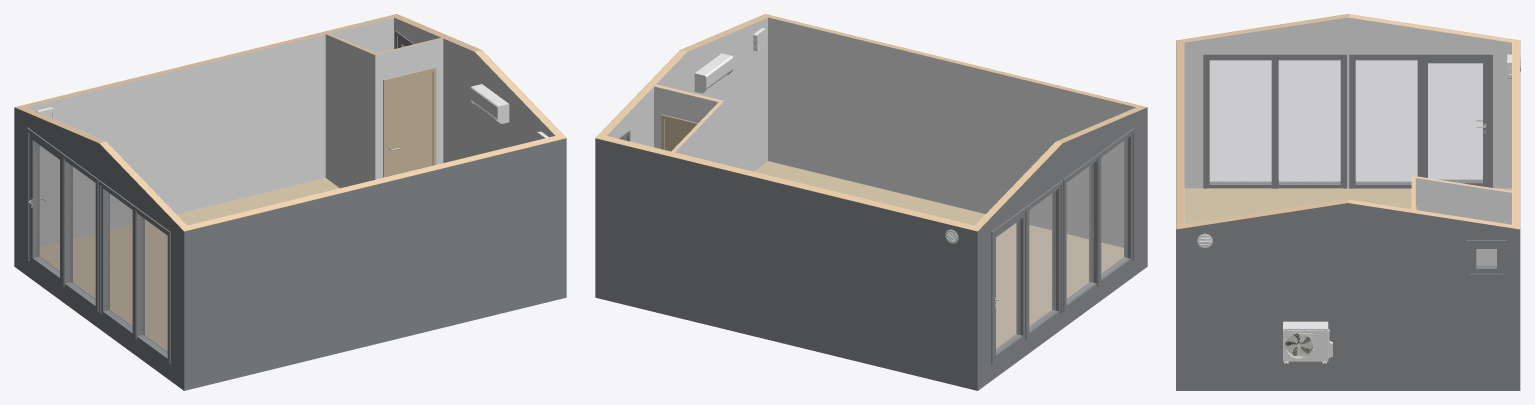
Rendered from medziosandelis.eu_(5,0 x 6,5)_R00.fbx.
The picture shows the model from 3 angles, left to right: view 1: azimuth 30°, elevation 25°; view 2: azimuth 150°, elevation 25°; view 3: azimuth 270°, elevation 25°; orthographic projection.
Parts seen in each view (by area): view 1: IfcWall/Part:2663454, IfcWall/Part:2663462, IfcWall/Part:2663460, IfcSlab/Part:2663543, IfcWall/Part:2663456, IfcWall/Part:2679602, IfcDoor/Durys vidinės:800x2100 x 120 (dešininės):2663563, IfcWindow/Langai (Akrusta):1000x2100x120:2727360, IfcDoor/Durys išorinės:1000x2100x120 (dešininės):2732387, IfcWindow/Langai (Akrusta):1000x2100x120:2732932, IfcWindow/Langai (Akrusta):1000x2100x120:2732892, IfcWall/Part:2663506 (+5 smaller); view 2: IfcWall/Part:2663463, IfcWall/Part:2663453, IfcWall/Part:2663460, IfcSlab/Part:2663543, IfcWall/Part:2663456, IfcWindow/Langai (Akrusta):1000x2100x120:2732892, IfcWindow/Langai (Akrusta):1000x2100x120:2732932, IfcWindow/Langai (Akrusta):1000x2100x120:2727360, IfcDoor/Durys išorinės:1000x2100x120 (dešininės):2732387, IfcWall/Part:2663464, IfcWall/Part:2663507, IfcWall/Part:2679602 (+5 smaller); view 3: IfcWall/Part:2663457, IfcWall/Part:2663459, IfcWindow/Langai (Akrusta):1000x2100x120:2727360, IfcWindow/Langai (Akrusta):1000x2100x120:2732892, IfcWindow/Langai (Akrusta):1000x2100x120:2732932, IfcDoor/Durys išorinės:1000x2100x120 (dešininės):2732387, IfcSlab/Part:2663543, IfcWall/Part:2679603, IfcBuildingElementProxy/Toshiba_Air_Handling_Unit_-_Inverter, IfcWindow/Langai (Akrusta):500x500x120 (varstomas):2710636, IfcWall/Part:2663455, IfcWall/Part:2663464 (+4 smaller).
Boxes of the visible parts, bbox=[...] form: IfcWall/Part:2663454: bbox=[184, 138, 566, 390]; IfcWall/Part:2663462: bbox=[25, 17, 393, 247]; IfcWall/Part:2663460: bbox=[14, 107, 183, 390]; IfcSlab/Part:2663543: bbox=[39, 178, 339, 351]; IfcWall/Part:2663456: bbox=[394, 17, 555, 162]; IfcWall/Part:2679602: bbox=[325, 34, 374, 188]; IfcDoor/Durys vidinės:800x2100 x 120 (dešininės):2663563: bbox=[383, 67, 436, 177]; IfcWindow/Langai (Akrusta):1000x2100x120:2727360: bbox=[98, 180, 144, 339]; IfcDoor/Durys išorinės:1000x2100x120 (dešininės):2732387: bbox=[26, 127, 72, 286]; IfcWindow/Langai (Akrusta):1000x2100x120:2732932: bbox=[60, 152, 98, 311]; IfcWindow/Langai (Akrusta):1000x2100x120:2732892: bbox=[132, 205, 170, 364]; IfcWall/Part:2663506: bbox=[375, 38, 443, 179]; IfcWall/Part:2663463: bbox=[595, 138, 977, 390]; IfcWall/Part:2663453: bbox=[768, 17, 1136, 247]; IfcWall/Part:2663460: bbox=[978, 107, 1147, 390]; IfcSlab/Part:2663543: bbox=[754, 161, 1123, 348]; IfcWall/Part:2663456: bbox=[606, 17, 767, 171]; IfcWindow/Langai (Akrusta):1000x2100x120:2732892: bbox=[1089, 127, 1135, 286]; IfcWindow/Langai (Akrusta):1000x2100x120:2732932: bbox=[1025, 180, 1063, 339]; IfcWindow/Langai (Akrusta):1000x2100x120:2727360: bbox=[1063, 152, 1101, 311]; IfcDoor/Durys išorinės:1000x2100x120 (dešininės):2732387: bbox=[991, 207, 1029, 364]; IfcWall/Part:2663464: bbox=[596, 134, 981, 231]; IfcWall/Part:2663507: bbox=[654, 86, 718, 148]; IfcWall/Part:2679602: bbox=[674, 101, 724, 164]; IfcWall/Part:2663457: bbox=[1176, 203, 1519, 390]; IfcWall/Part:2663459: bbox=[1184, 17, 1511, 188]; IfcWindow/Langai (Akrusta):1000x2100x120:2727360: bbox=[1272, 54, 1346, 188]; IfcWindow/Langai (Akrusta):1000x2100x120:2732892: bbox=[1203, 54, 1278, 188]; IfcWindow/Langai (Akrusta):1000x2100x120:2732932: bbox=[1349, 54, 1424, 188]; IfcDoor/Durys išorinės:1000x2100x120 (dešininės):2732387: bbox=[1418, 54, 1492, 187]; IfcSlab/Part:2663543: bbox=[1184, 188, 1511, 224]; IfcWall/Part:2679603: bbox=[1415, 178, 1511, 265]; IfcBuildingElementProxy/Toshiba_Air_Handling_Unit_-_Inverter: bbox=[1282, 321, 1332, 363]; IfcWindow/Langai (Akrusta):500x500x120 (varstomas):2710636: bbox=[1466, 240, 1506, 277]; IfcWall/Part:2663455: bbox=[1176, 39, 1183, 229]; IfcWall/Part:2663464: bbox=[1512, 39, 1519, 229].
Size of the model in its own units: 686 by 301 by 501.
